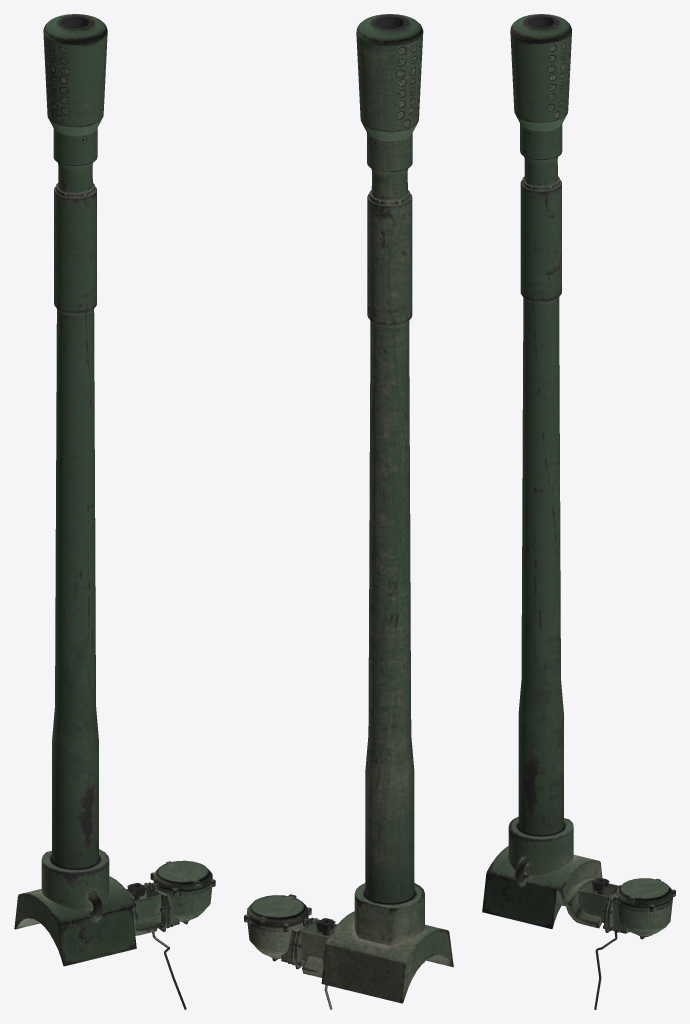
File: Gun_02.glb
3 views of the same model, side by side, from view 1: azimuth 30°, elevation 25°; view 2: azimuth 150°, elevation 25°; view 3: azimuth 330°, elevation 25° (orthographic). The views are drawn at different scales.
Visible parts, largest first — view 1: set_0_group_0; view 2: set_0_group_0; view 3: set_0_group_0.
Part boxes in pixels (x1=…): set_0_group_0: x1=14, y1=14, x2=215, y2=1009; set_0_group_0: x1=244, y1=14, x2=453, y2=1009; set_0_group_0: x1=482, y1=14, x2=675, y2=1009.
Bounding box in the file's own units: 1.16 × 6.46 × 0.6175.
Materials: 1 (1 with a texture image).
